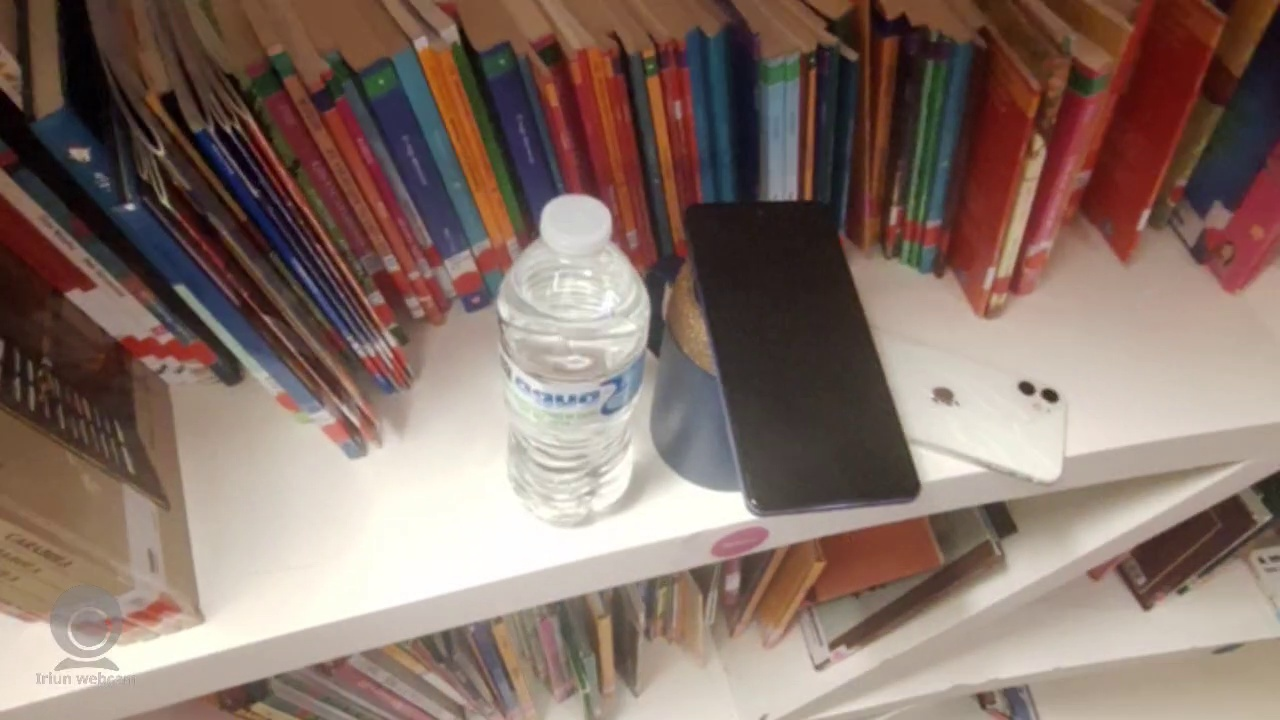botella: (496, 192, 652, 529)
